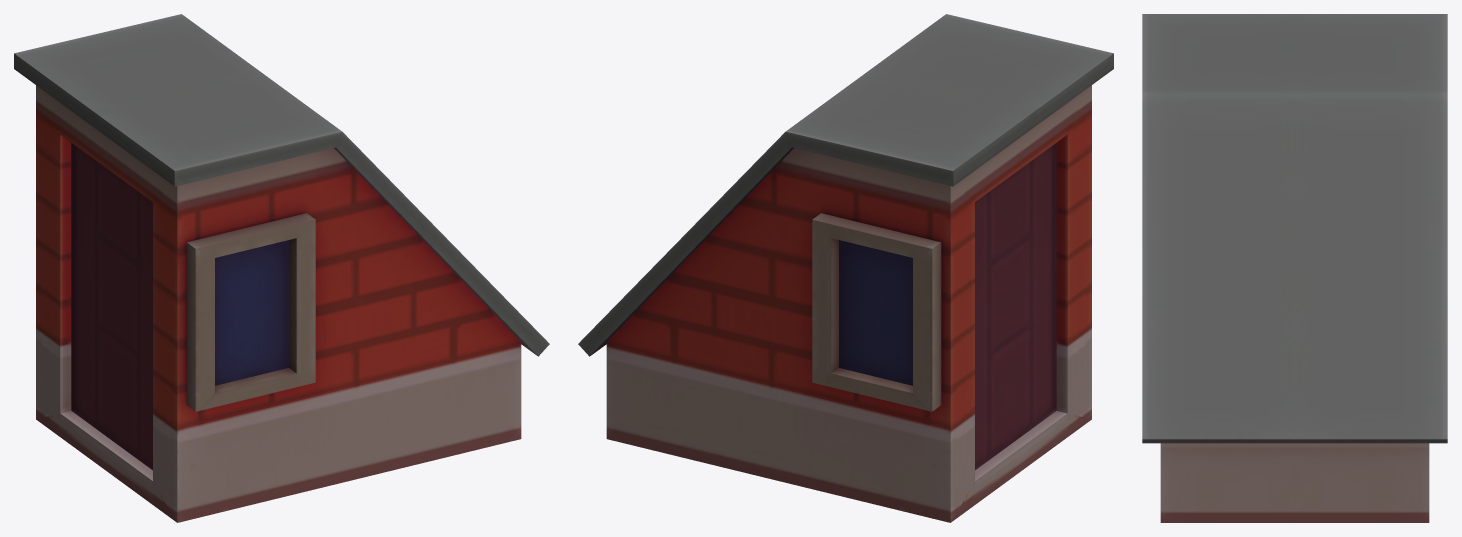
Rendered from Obstacle_RoofExit.FBX.
3 views of the same model, side by side, from view 1: azimuth 30°, elevation 25°; view 2: azimuth 150°, elevation 25°; view 3: azimuth 270°, elevation 25° (orthographic). The views are drawn at different scales.
Parts seen in each view (by area): view 1: Obstacle_RoofExit; view 2: Obstacle_RoofExit; view 3: Obstacle_RoofExit.
Boxes of the visible parts, x1=… form: Obstacle_RoofExit: x1=14, y1=14, x2=549, y2=522; Obstacle_RoofExit: x1=578, y1=14, x2=1113, y2=522; Obstacle_RoofExit: x1=1142, y1=14, x2=1447, y2=522.
Bounding box in the file's own units: 13.05 × 12.03 × 9.68.
